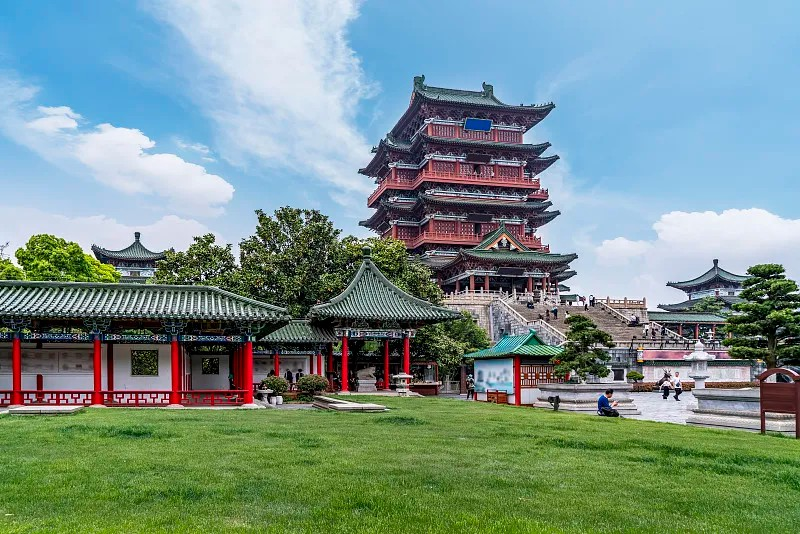Teng: (357, 74, 579, 293)
